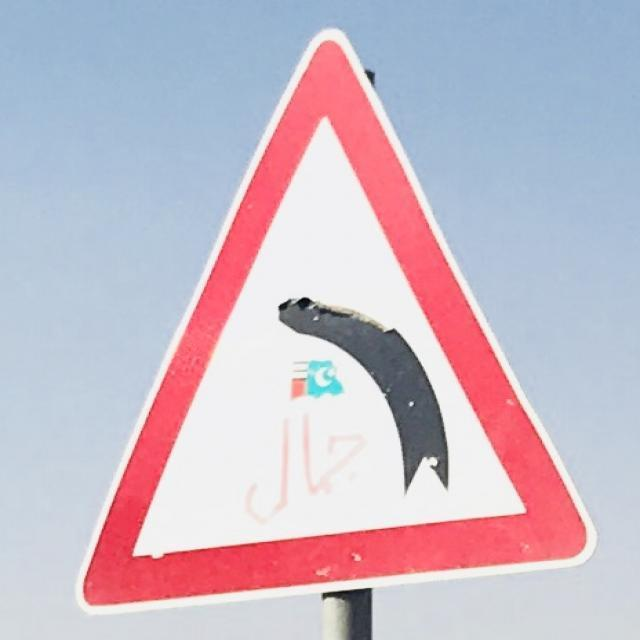left hand curve: (76, 30, 591, 602)
